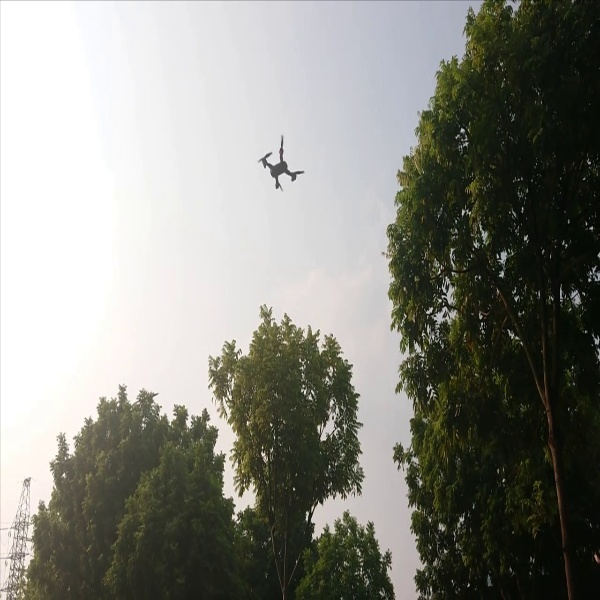drone: (254, 131, 310, 198)
